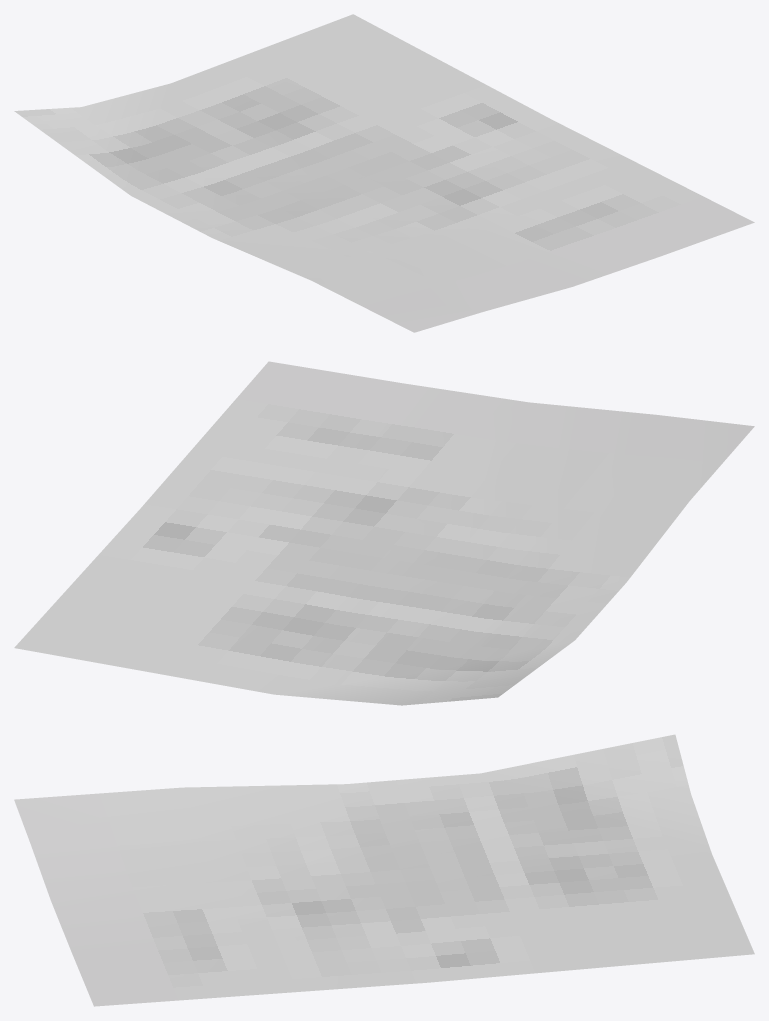
The model's file is a_sch_entrance01_obj_paper03.gltf.
3 views of the same model, one above another, from view 1: azimuth 30°, elevation 25°; view 2: azimuth 150°, elevation 25°; view 3: azimuth 270°, elevation 25° (orthographic). The views are drawn at different scales.
Parts seen in each view (by area): view 1: a_sch_entrance01_obj_paper03_mesh_shape:a_sch_office01_poste; view 2: a_sch_entrance01_obj_paper03_mesh_shape:a_sch_office01_poste; view 3: a_sch_entrance01_obj_paper03_mesh_shape:a_sch_office01_poste.
Part boxes in pixels (bbox=[...]): a_sch_entrance01_obj_paper03_mesh_shape:a_sch_office01_poste: bbox=[14, 14, 754, 332]; a_sch_entrance01_obj_paper03_mesh_shape:a_sch_office01_poste: bbox=[14, 361, 754, 705]; a_sch_entrance01_obj_paper03_mesh_shape:a_sch_office01_poste: bbox=[14, 734, 754, 1006].
Size of the model in its own units: 0.2867 by 0.017 by 0.368.
Materials: 1 (1 with a texture image).
